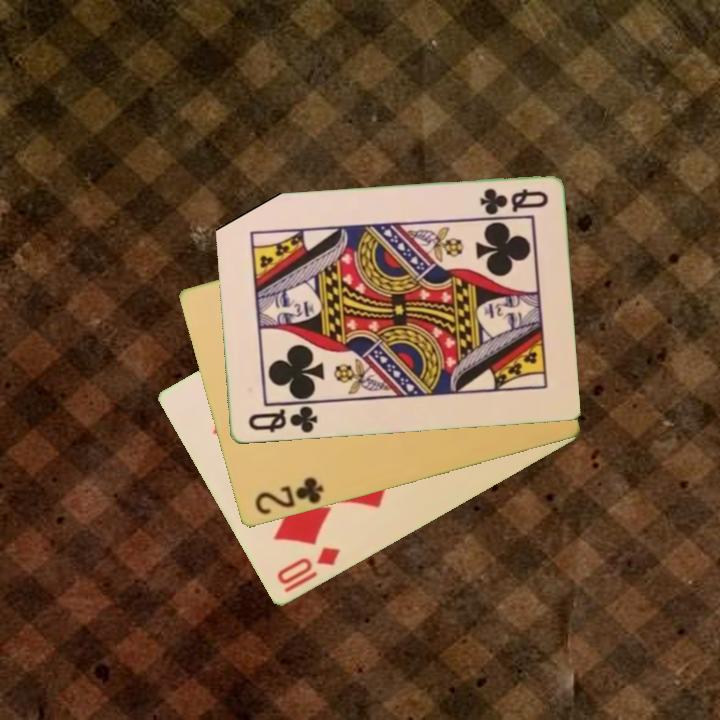10d: (273, 544, 344, 588)
2c: (251, 474, 327, 519)
Qc: (244, 402, 320, 437), (476, 185, 551, 217)
